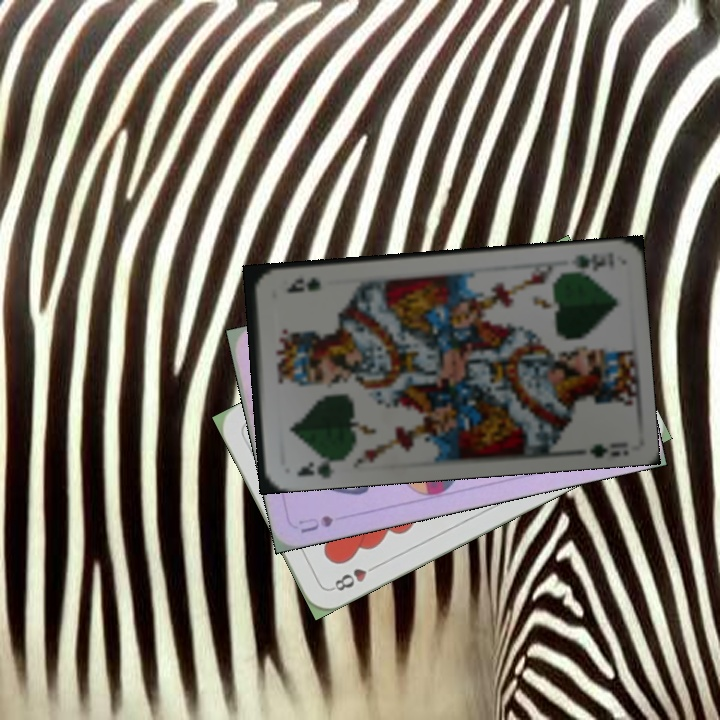GK: (293, 453, 337, 481), (568, 249, 609, 274)
H8: (327, 559, 382, 594)
SU: (294, 511, 336, 536)
